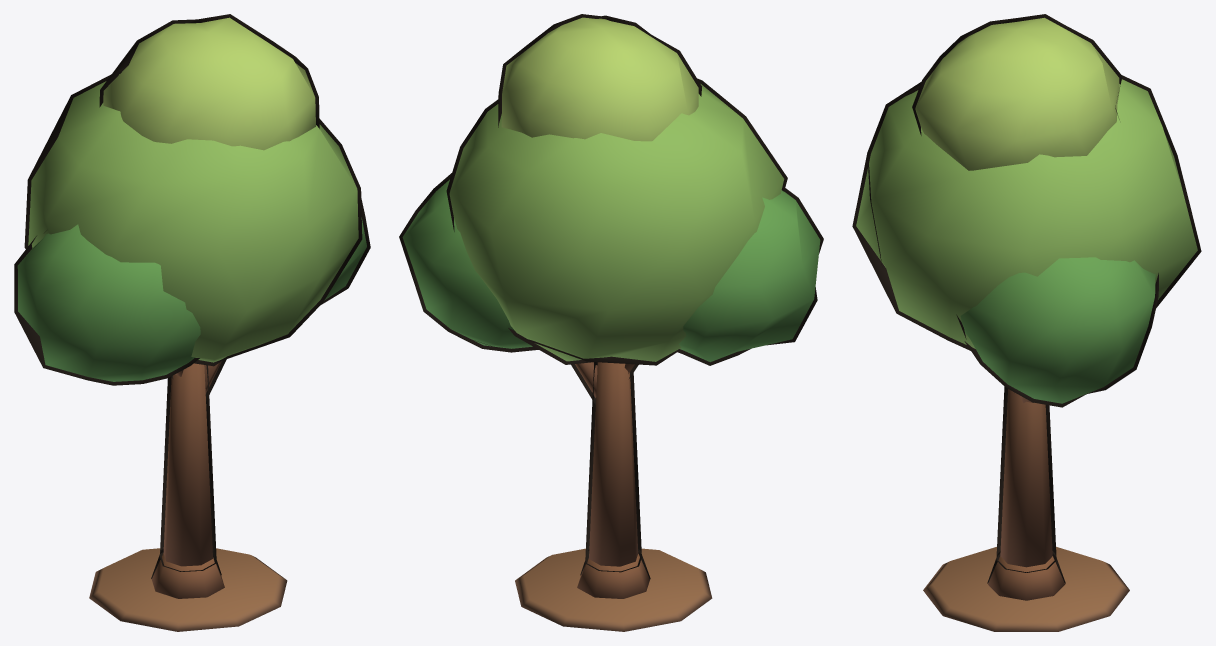
The model's file is Agac_Yuvarlak.fbx.
3 renders of one model, left to right at view 1: azimuth 30°, elevation 25°; view 2: azimuth 150°, elevation 25°; view 3: azimuth 270°, elevation 25°, orthographic. The views are drawn at different scales.
Parts seen in each view (by area): view 1: Agac_Yuvarlak; view 2: Agac_Yuvarlak; view 3: Agac_Yuvarlak.
Boxes of the visible parts, x1=… form: Agac_Yuvarlak: x1=14, y1=14, x2=370, y2=631; Agac_Yuvarlak: x1=399, y1=14, x2=823, y2=631; Agac_Yuvarlak: x1=852, y1=14, x2=1201, y2=631.
Size of the model in its own units: 2.27 by 3.37 by 1.85.
2 materials, 1 textured.
